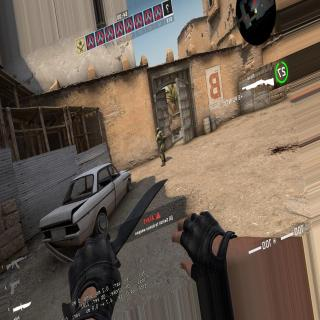CT-Body: (156, 126, 168, 164)
CT-Head: (156, 128, 160, 132)
